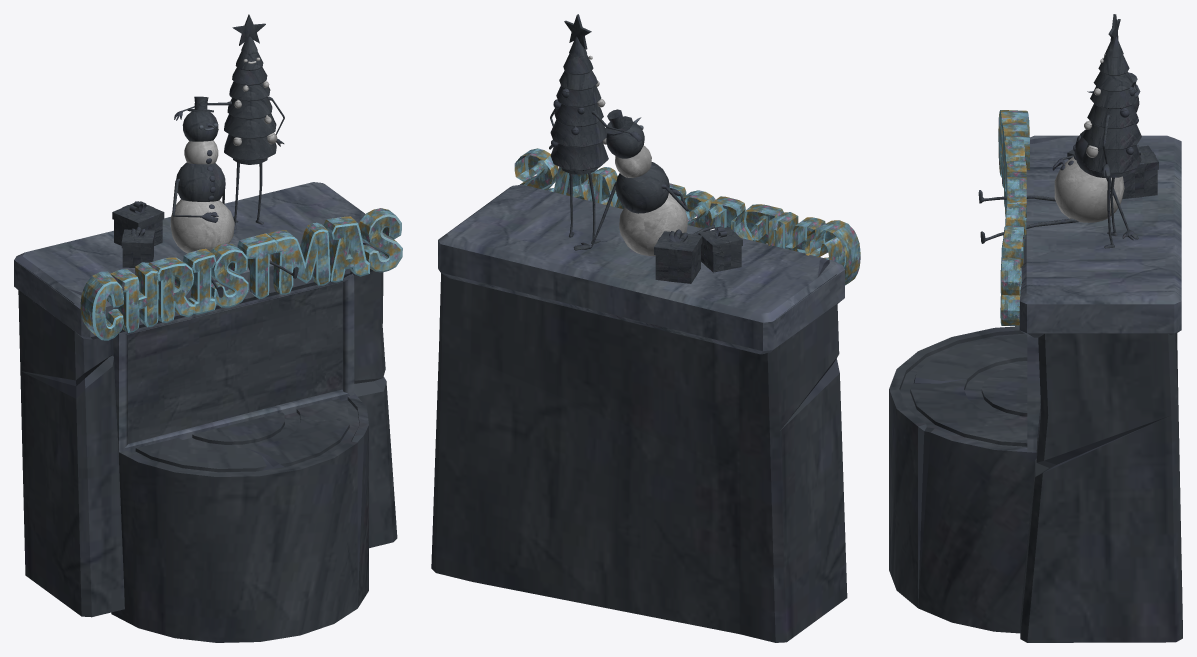
File: stand-christmas01.glb
3 views of the same model, side by side, from view 1: azimuth 30°, elevation 25°; view 2: azimuth 150°, elevation 25°; view 3: azimuth 270°, elevation 25° (orthographic). The views are drawn at different scales.
Visible parts, largest first — view 1: StandChristmas01; view 2: StandChristmas01; view 3: StandChristmas01.
Boxes of the visible parts, <box> form: StandChristmas01: <box>14,14,402,642</box>; StandChristmas01: <box>431,14,860,642</box>; StandChristmas01: <box>889,14,1182,642</box>.
Size of what is drawn, in the model's own units: 11.15 by 17.87 by 8.14.
Materials: 1 (1 with a texture image).
